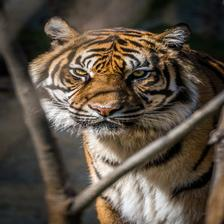tiger: (39, 28, 224, 224)
